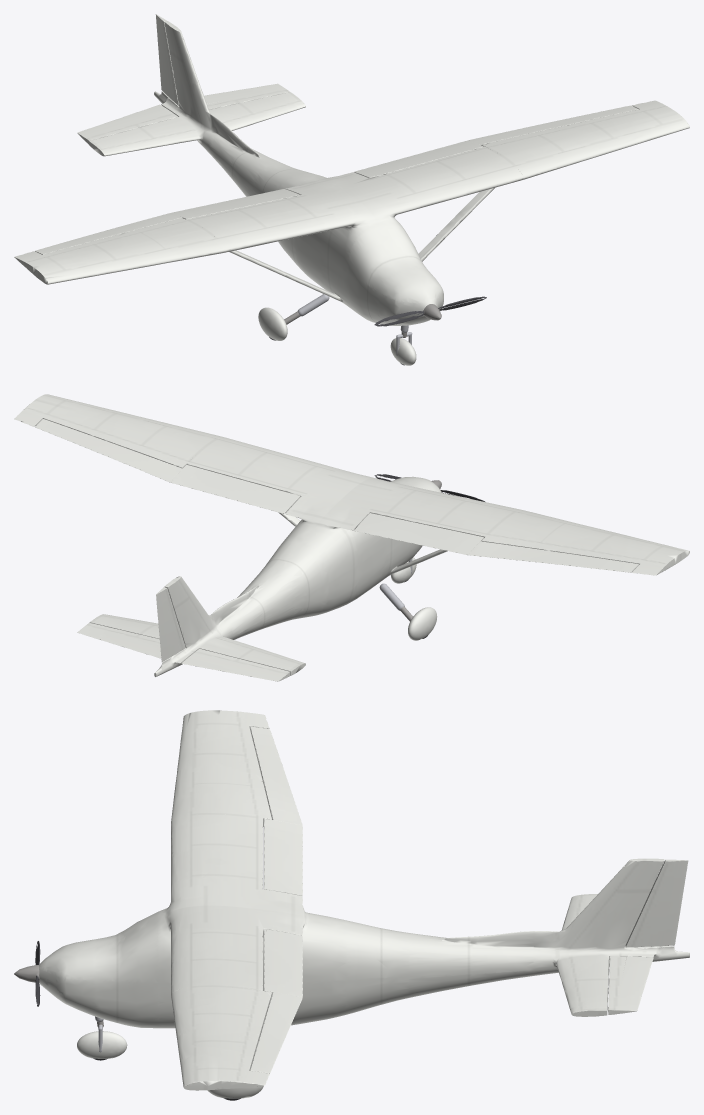
3 renders of one model, top to bottom at view 1: azimuth 30°, elevation 25°; view 2: azimuth 150°, elevation 25°; view 3: azimuth 270°, elevation 25°, orthographic. The views are drawn at different scales.
Visible parts, largest first — view 1: fsim:section:centre, fsim:section:left-wing, fsim:section:right-wing, fsim:section:tail, fsim:section:nose, fsim:flaps (×2), fsim:elevator (×2), fsim:aileron (×2), fsim:rudder, fsim:propeller:0, fsim:oleo:2:2.10707, fsim:steer:0; view 2: fsim:section:centre, fsim:section:left-wing, fsim:section:right-wing, fsim:section:tail, fsim:flaps (×2), fsim:aileron (×2), fsim:elevator (×2), fsim:rudder, fsim:oleo:2:2.10707; view 3: fsim:section:centre, fsim:section:right-wing, fsim:section:left-wing, fsim:section:tail, fsim:section:nose, fsim:flaps (×2), fsim:aileron (×2), fsim:rudder, fsim:elevator, fsim:steer:0.
Part boxes in pixels (box(x1,y1,x2,y2)): fsim:section:centre: box(210, 126, 486, 322); fsim:section:left-wing: box(369, 100, 689, 210); fsim:section:right-wing: box(14, 195, 349, 284); fsim:section:tail: box(89, 21, 305, 163); fsim:section:nose: box(358, 252, 443, 325); fsim:flaps (×2): box(170, 140, 483, 219); fsim:elevator (×2): box(77, 83, 289, 144); fsim:aileron (×2): box(35, 105, 638, 254); fsim:rudder: box(155, 14, 178, 105); fsim:propeller:0: box(374, 296, 486, 326); fsim:oleo:2:2.10707: box(258, 307, 300, 340); fsim:steer:0: box(390, 332, 416, 365); fsim:section:centre: box(223, 467, 447, 639); fsim:section:left-wing: box(14, 394, 339, 496); fsim:section:right-wing: box(370, 485, 689, 575); fsim:section:tail: box(89, 576, 305, 676); fsim:flaps (×2): box(170, 464, 483, 554); fsim:aileron (×2): box(35, 419, 638, 572); fsim:elevator (×2): box(77, 623, 290, 681); fsim:rudder: box(156, 587, 185, 661); fsim:oleo:2:2.10707: box(400, 606, 437, 640); fsim:section:centre: box(102, 878, 534, 1028); fsim:section:right-wing: box(171, 710, 271, 890); fsim:section:left-wing: box(171, 917, 271, 1090); fsim:section:tail: box(503, 858, 689, 1016); fsim:section:nose: box(38, 930, 135, 1024); fsim:flaps (×2): box(263, 819, 302, 997); fsim:aileron (×2): box(250, 726, 302, 1073); fsim:rudder: box(625, 859, 688, 947); fsim:elevator: box(608, 956, 653, 1014); fsim:steer:0: box(77, 1021, 127, 1058).
Bounding box in the file's own units: 10.97 × 2.76 × 8.46.
5 materials, 1 textured.
